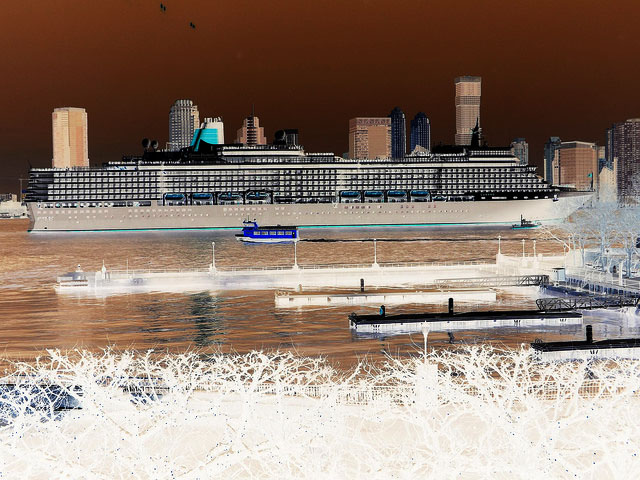boat: (235, 217, 303, 243), (508, 216, 542, 230)
cruise_ship: (18, 117, 597, 230)
